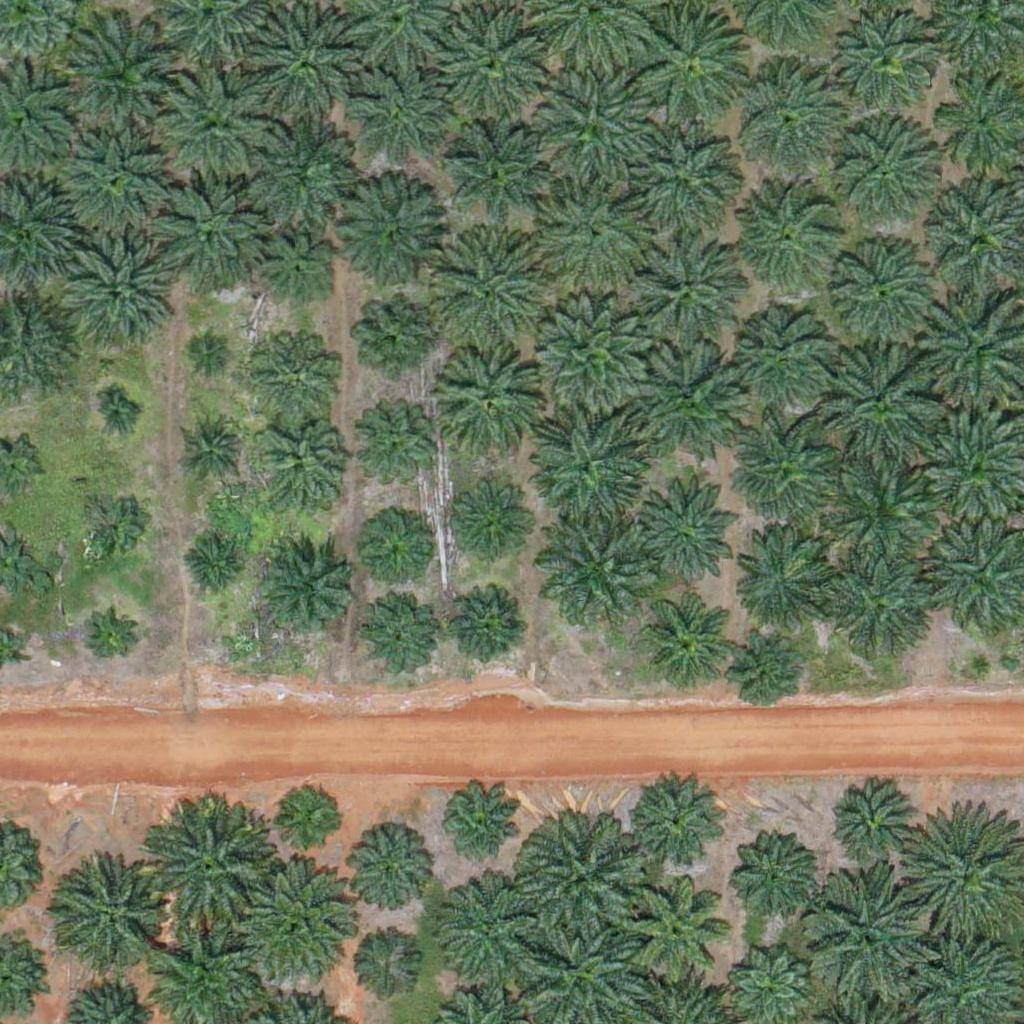Kelapa_Sawit: (810, 875, 935, 1001), (517, 816, 642, 942), (147, 811, 272, 937), (63, 15, 188, 141), (247, 866, 360, 980), (58, 123, 171, 237), (436, 871, 549, 984), (824, 555, 937, 668), (826, 452, 939, 565), (830, 340, 943, 453), (729, 61, 842, 174), (728, 406, 841, 519), (638, 11, 751, 124), (628, 116, 741, 229), (625, 234, 738, 347), (538, 508, 651, 621), (428, 340, 541, 453), (331, 180, 444, 293), (249, 8, 362, 121), (235, 109, 348, 222), (56, 232, 169, 345), (149, 169, 261, 283), (831, 224, 943, 337), (827, 111, 939, 224), (634, 338, 746, 451), (630, 484, 742, 597), (537, 65, 649, 178), (535, 174, 647, 287), (533, 293, 645, 406), (529, 408, 641, 521), (431, 230, 543, 343), (160, 67, 272, 180), (435, 3, 547, 116), (630, 885, 730, 986), (628, 774, 728, 875), (742, 180, 842, 281), (733, 304, 833, 405), (734, 526, 834, 627), (445, 127, 545, 228), (254, 539, 354, 640), (60, 870, 160, 970), (836, 10, 936, 110), (344, 828, 432, 917), (638, 596, 726, 684), (249, 330, 337, 418), (257, 424, 345, 512), (436, 782, 523, 870), (443, 477, 530, 565), (354, 74, 441, 162), (357, 300, 432, 376), (346, 933, 421, 1009), (835, 791, 910, 867), (736, 839, 811, 915), (451, 593, 526, 669), (359, 415, 434, 491), (362, 597, 437, 673), (255, 233, 330, 309), (359, 520, 422, 583), (183, 538, 246, 601), (280, 785, 343, 848), (78, 493, 141, 556), (733, 637, 796, 700), (84, 615, 134, 666), (186, 423, 236, 473), (194, 334, 232, 372), (99, 396, 136, 434)
